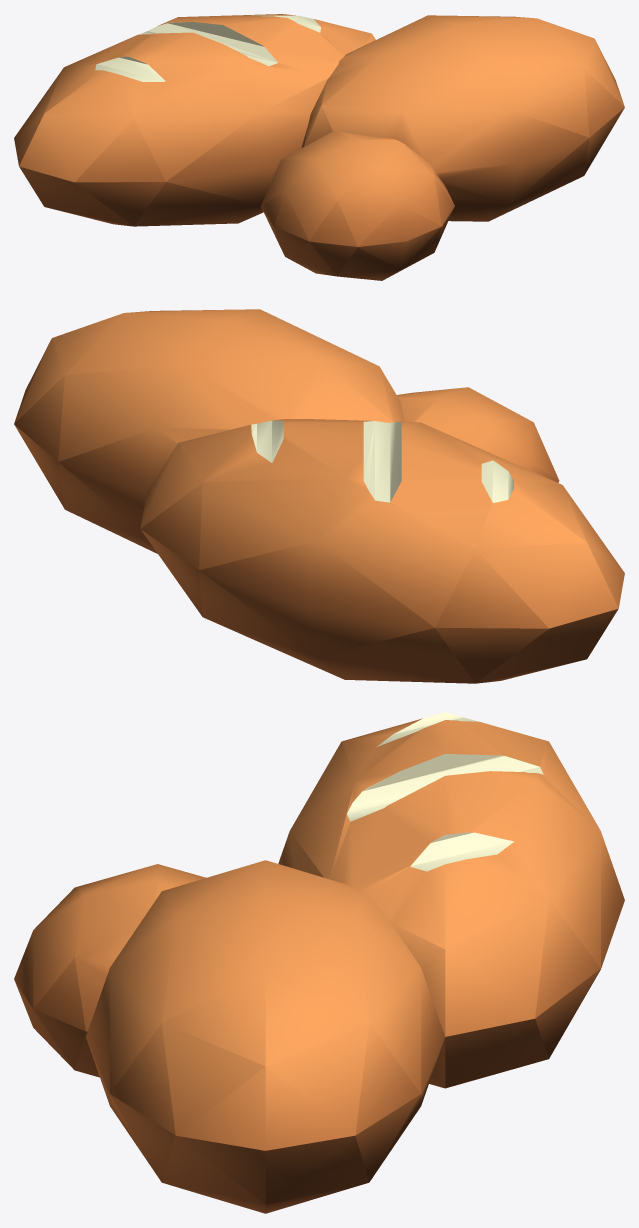
The model's file is bread.glb.
3 views of the same model, one above another, from view 1: azimuth 30°, elevation 25°; view 2: azimuth 150°, elevation 25°; view 3: azimuth 270°, elevation 25° (orthographic). The views are drawn at different scales.
Parts seen in each view (by area): view 1: Item; view 2: Item; view 3: Item.
Boxes of the visible parts, x1=… form: Item: x1=14, y1=14, x2=624, y2=280; Item: x1=14, y1=309, x2=624, y2=683; Item: x1=14, y1=712, x2=624, y2=1213.
Bounding box in the file's own units: 1.02 × 0.34 × 0.68.
1 material, 1 textured.
